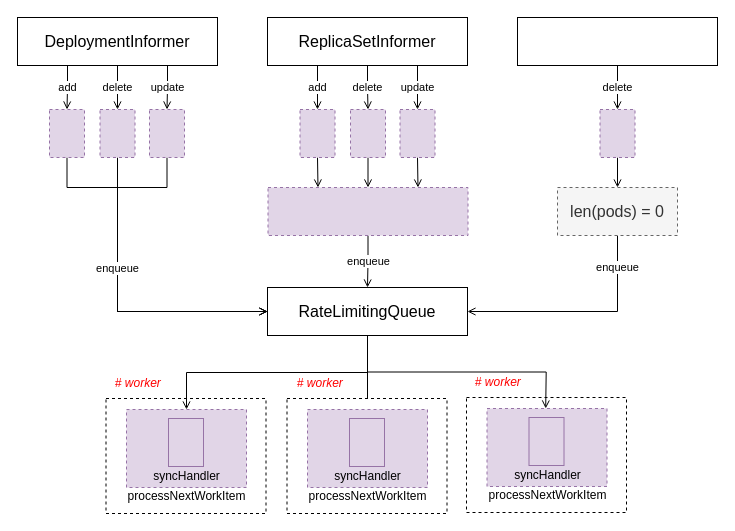
Image size: 735x531. Some labels were removed from this diagram. The centre of each missing label's shape, as x and y in pixels:
PodInformer: (x=617, y=41)
resolveControllerRef: (x=367, y=211)
